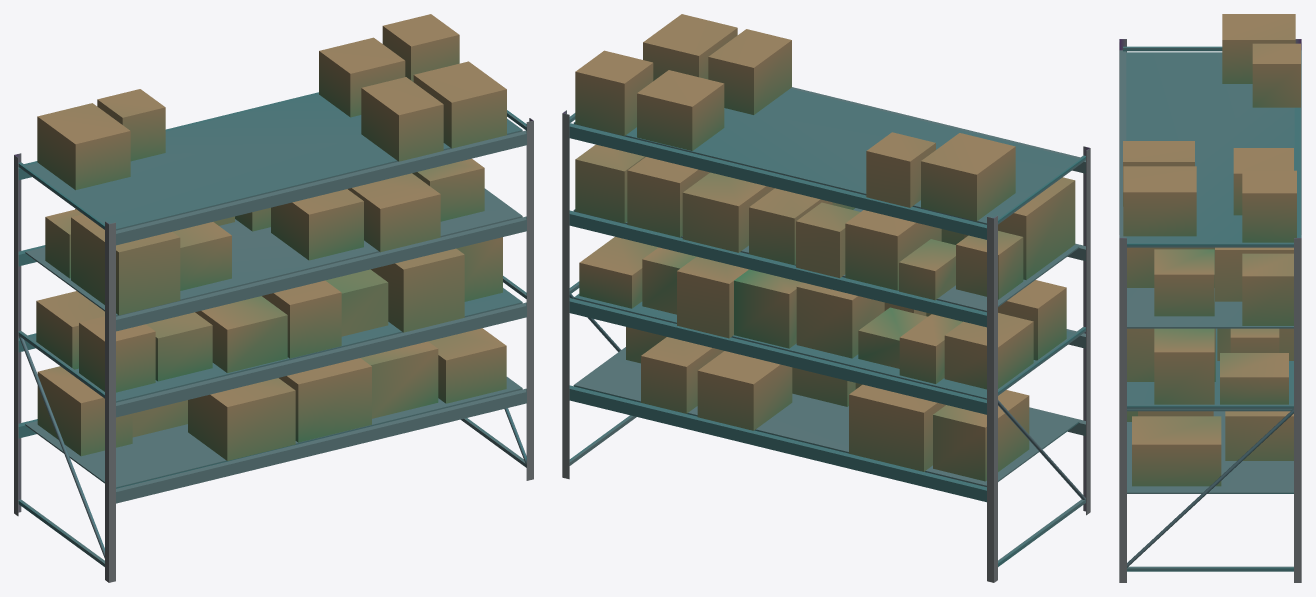
File: simready-rack_composition_l10.glb
3 views of the same model, side by side, from view 1: azimuth 30°, elevation 25°; view 2: azimuth 150°, elevation 25°; view 3: azimuth 270°, elevation 25° (orthographic). The views are drawn at different scales.
Visible parts, largest first — view 1: deck.003, carton.023, deck.002, carton.004, deck, carton.036, edge_rail.001, edge_rail.003, edge_rail.007, edge_rail.005, carton.040, carton.013 (+26 smaller); view 2: deck.003, deck, carton.036, edge_rail.002, edge_rail.004, edge_rail.008, edge_rail.006, carton.001, carton.002, carton.038, carton, carton.040 (+30 smaller); view 3: deck.003, carton.007, carton.041, carton.014, carton.027, carton.039, carton.035, deck, carton.015, carton.036, carton.003, carton.037 (+20 smaller).
Boxes of the visible parts, x1,y1,x2,y2 form: deck.003: (26, 94, 522, 230); carton.023: (71, 214, 180, 315); deck.002: (25, 188, 522, 316); carton.004: (188, 378, 295, 460); deck: (25, 377, 522, 488); carton.036: (37, 103, 130, 190); edge_rail.001: (116, 388, 526, 503); edge_rail.003: (116, 302, 526, 417); edge_rail.007: (116, 130, 526, 245); edge_rail.005: (116, 216, 526, 331); carton.040: (361, 77, 443, 161); carton.013: (371, 248, 464, 332); deck.003: (573, 88, 1077, 224); deck: (573, 347, 1079, 486); carton.036: (921, 133, 1015, 221); edge_rail.002: (569, 385, 986, 502); edge_rail.004: (569, 298, 986, 414); edge_rail.008: (569, 123, 986, 239); edge_rail.006: (569, 210, 986, 327); carton.001: (849, 384, 945, 471); carton.002: (697, 351, 792, 430); carton.038: (637, 70, 724, 150); carton: (933, 390, 1029, 481); carton.040: (708, 29, 791, 114); deck.003: (1126, 52, 1294, 242); carton.007: (1132, 416, 1221, 486); carton.041: (1123, 166, 1196, 236); carton.014: (1154, 328, 1214, 404); carton.027: (1154, 249, 1214, 316); carton.039: (1242, 170, 1296, 242); carton.035: (1242, 253, 1293, 325); deck: (1127, 411, 1293, 493); carton.015: (1220, 353, 1288, 404); carton.036: (1222, 14, 1295, 83); carton.003: (1225, 411, 1293, 460); carton.037: (1252, 43, 1300, 107).
Size of the model in its own units: 3.1 by 2.79 by 1.2.
